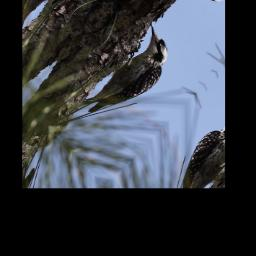Woodpecker: (72, 17, 188, 140)
